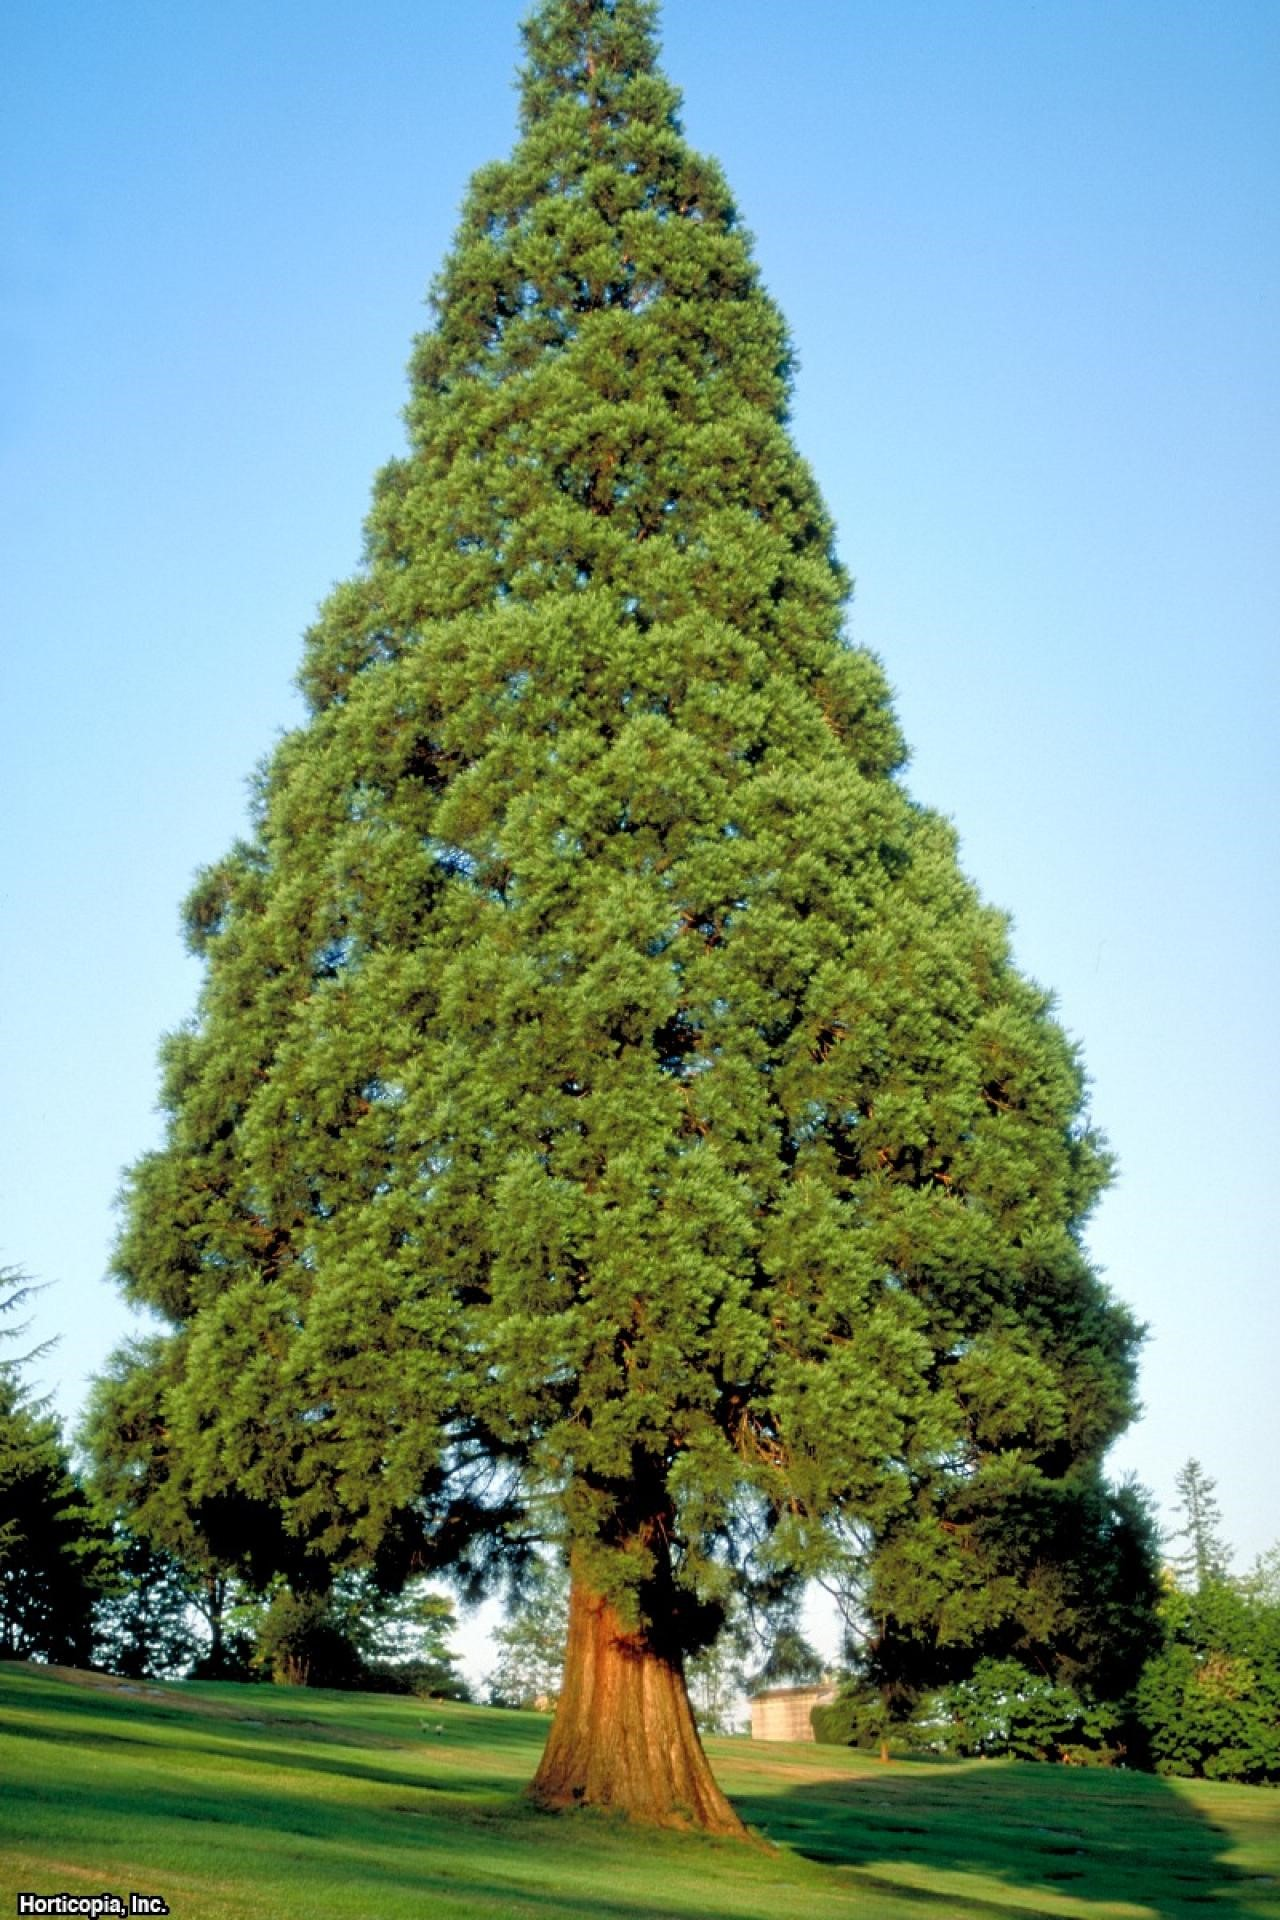grass: (6, 1680, 1274, 1909)
tree: (521, 1511, 744, 1843)
